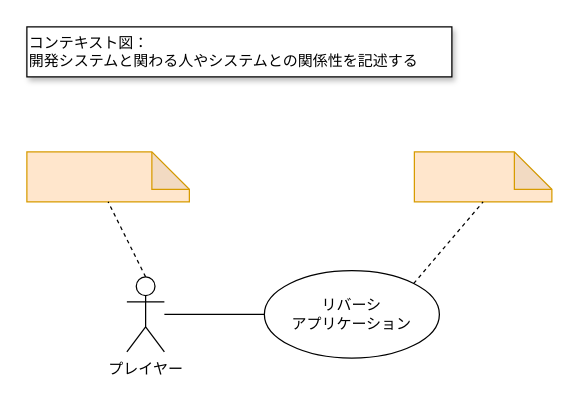
This 574x400 diagram has some shape labels left out. Here are the shapes that lost their labels. From the top down, the centre of each, then its label:
At point (107, 176): "一人で黒白交互に打つ".
At point (482, 176): "Webアプリ".
